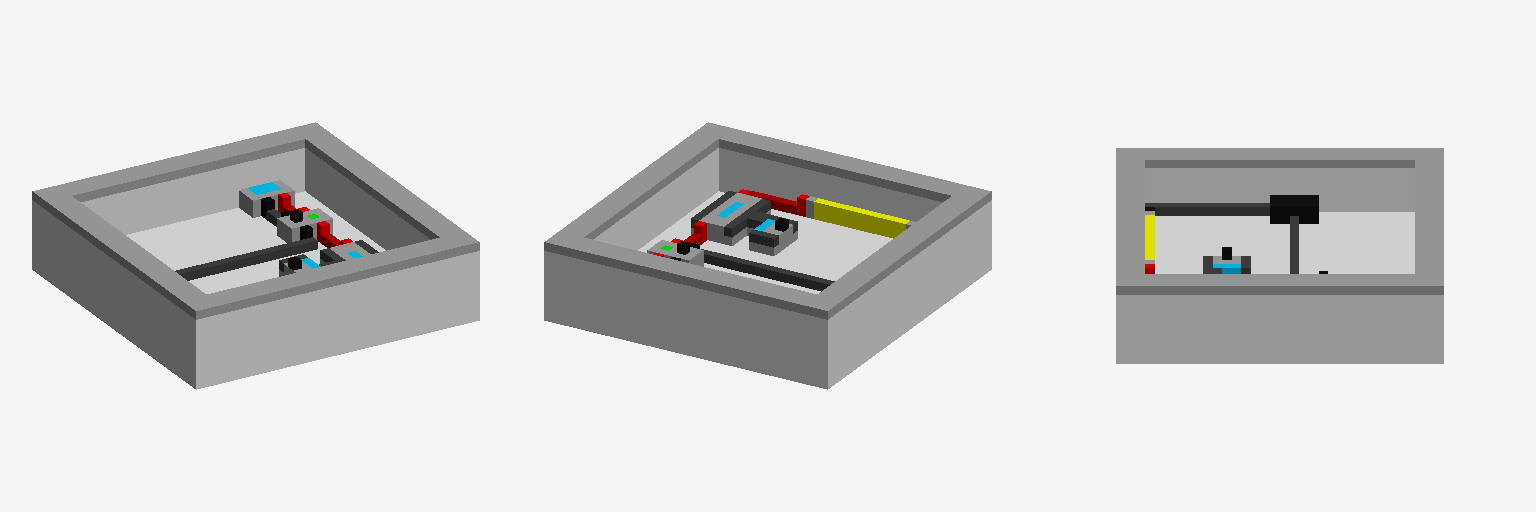
3 views of the same model, side by side, from view 1: azimuth 30°, elevation 25°; view 2: azimuth 150°, elevation 25°; view 3: azimuth 270°, elevation 25° (orthographic).
Visible parts, largest first — view 1: control_box_OK_63; view 2: control_box_OK_63; view 3: control_box_OK_63.
Boxes of the visible parts, x1,y1,x2,y2 form: control_box_OK_63: [32, 122, 479, 389]; control_box_OK_63: [544, 122, 991, 389]; control_box_OK_63: [1116, 148, 1443, 363].
Bounding box in the file's own units: 3.4 × 0.9 × 3.4.
1 materials, 1 textured.